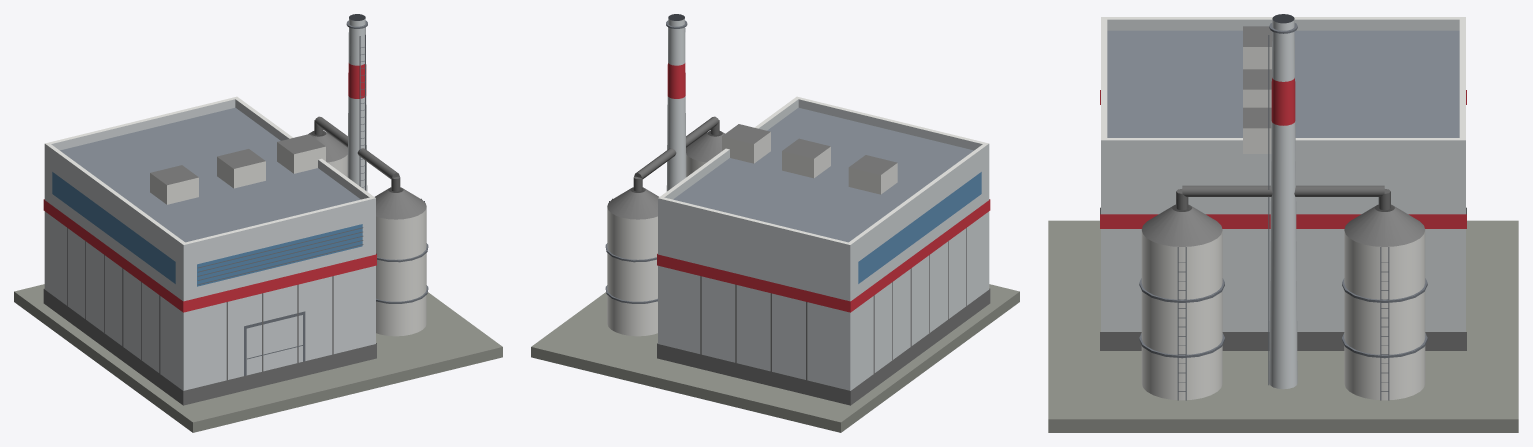
File: mashup-paint-top-prebuilt_close.fbx
The picture shows the model from 3 angles, left to right: view 1: azimuth 30°, elevation 25°; view 2: azimuth 150°, elevation 25°; view 3: azimuth 270°, elevation 25°; orthographic projection. The views are drawn at different scales.
Parts seen in each view (by area): view 1: a1029/0/mashup-paint-top-prebuilt_close; view 2: a1029/0/mashup-paint-top-prebuilt_close; view 3: a1029/0/mashup-paint-top-prebuilt_close.
Part boxes in pixels (x1,y1,x2,y2): a1029/0/mashup-paint-top-prebuilt_close: (14, 14, 502, 432); a1029/0/mashup-paint-top-prebuilt_close: (531, 14, 1019, 432); a1029/0/mashup-paint-top-prebuilt_close: (1048, 14, 1518, 432).
Bounding box in the file's own units: 23.2 × 20.6 × 23.2.
